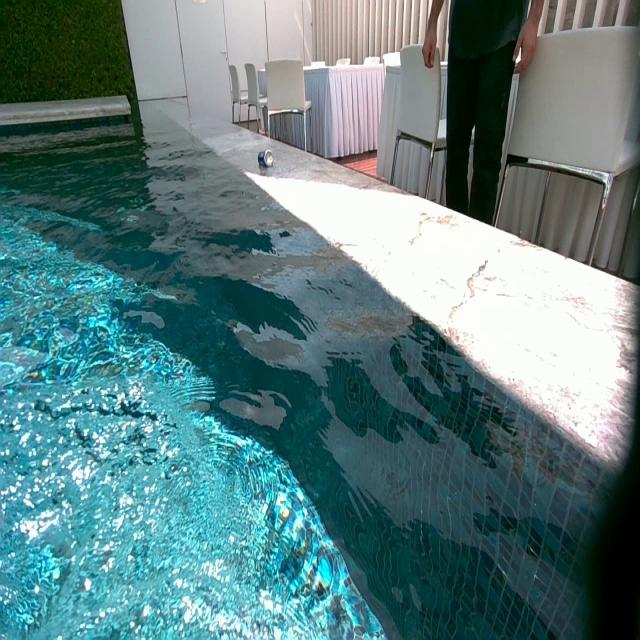Cans: (260, 149, 274, 165)
